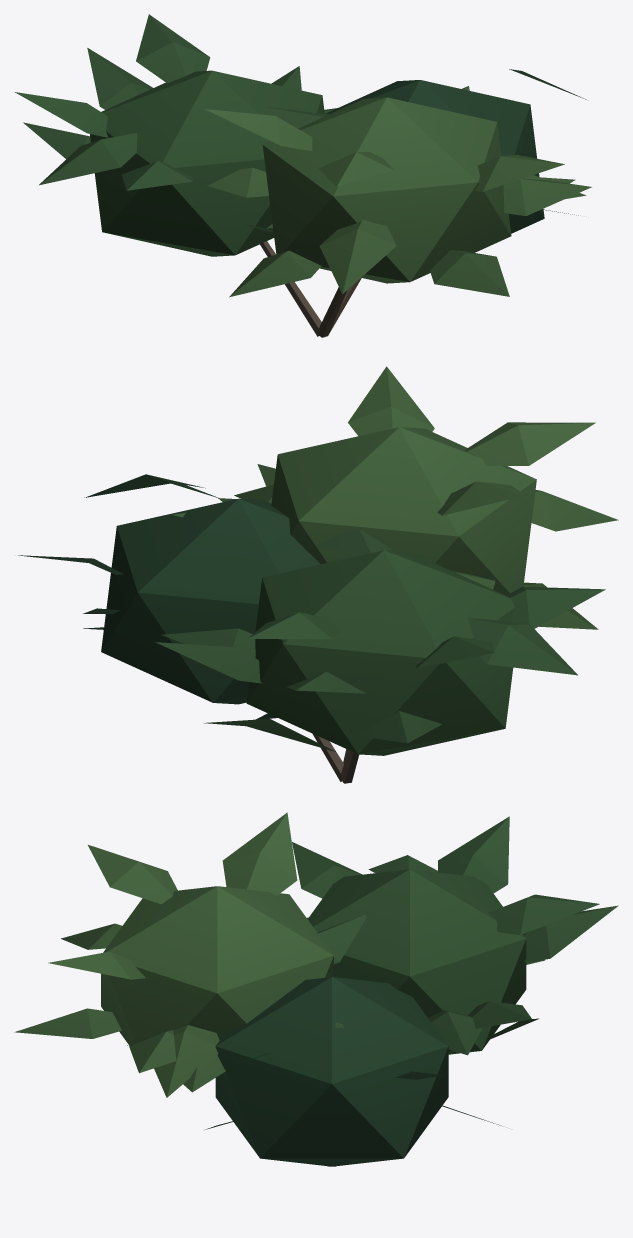
The model's file is prop-bush-lod0.glb.
3 renders of one model, top to bottom at view 1: azimuth 30°, elevation 25°; view 2: azimuth 150°, elevation 25°; view 3: azimuth 270°, elevation 25°, orthographic. The views are drawn at different scales.
Visible parts, largest first — view 1: prop-bush.006; view 2: prop-bush.006; view 3: prop-bush.006.
Part boxes in pixels (x1,y1,x2,y2): prop-bush.006: (15,14,591,337); prop-bush.006: (18,366,618,783); prop-bush.006: (14,812,618,1166).
Size of the model in its own units: 2.31 by 1.22 by 2.37.
